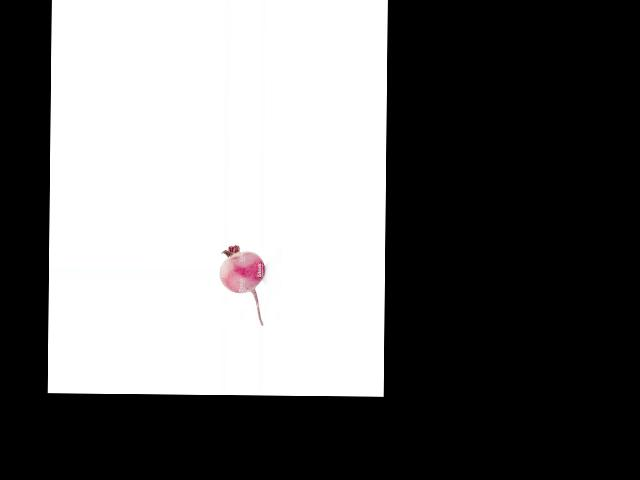beet: (219, 244, 265, 325)
